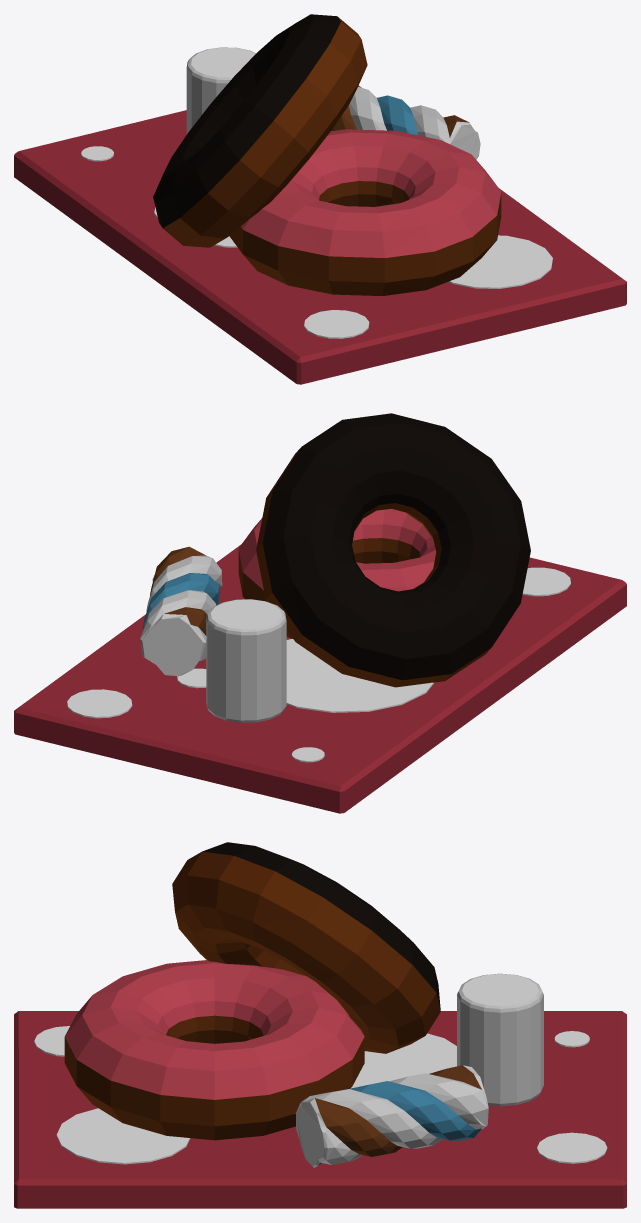
File: W_O_Playground_CandySymbolic_002_L0.fbx
3 views of the same model, one above another, from view 1: azimuth 30°, elevation 25°; view 2: azimuth 150°, elevation 25°; view 3: azimuth 270°, elevation 25° (orthographic). The views are drawn at different scales.
Visible parts, largest first — view 1: W_O_Playground_CandySymbolic_002_L0; view 2: W_O_Playground_CandySymbolic_002_L0; view 3: W_O_Playground_CandySymbolic_002_L0.
Part boxes in pixels (x1,y1,x2,y2): W_O_Playground_CandySymbolic_002_L0: (14, 14, 626, 384); W_O_Playground_CandySymbolic_002_L0: (14, 413, 626, 813); W_O_Playground_CandySymbolic_002_L0: (14, 842, 626, 1208).
Bounding box in the file's own units: 2.03 × 1.36 × 3.
